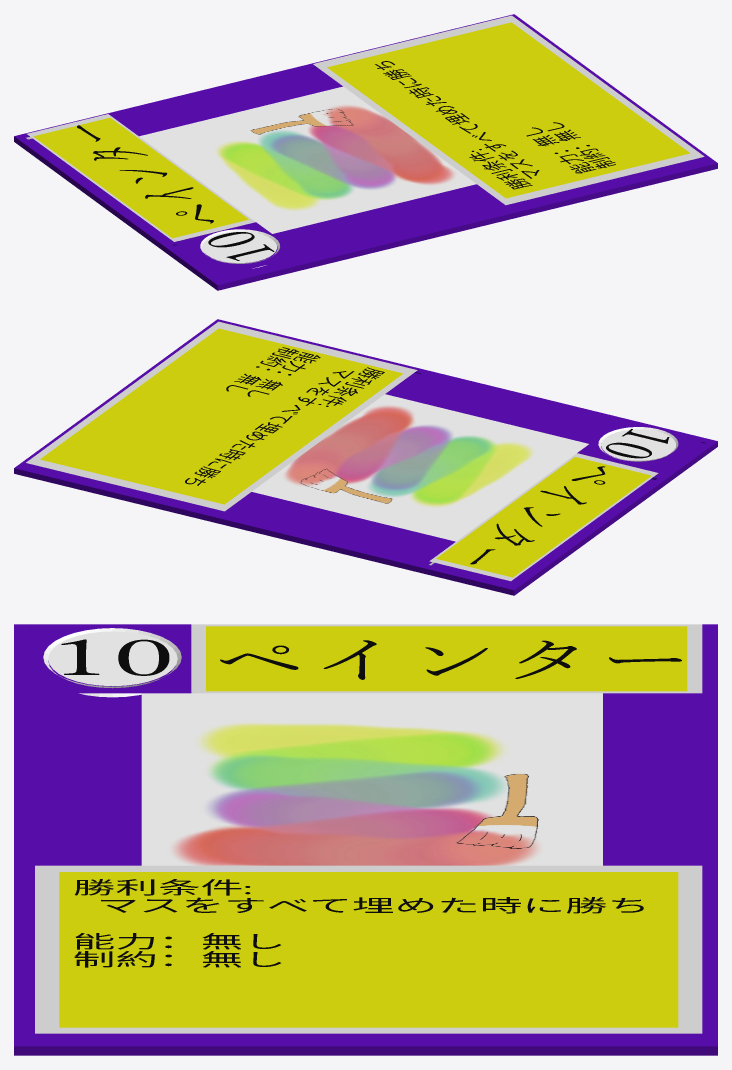
File: ペインター紫.fbx
3 renders of one model, top to bottom at view 1: azimuth 30°, elevation 25°; view 2: azimuth 150°, elevation 25°; view 3: azimuth 270°, elevation 25°, orthographic. The views are drawn at different scales.
Visible parts, largest first — view 1: 説明欄, 平面.001, カード本体.001, 名前欄, 説明文, 平面, 円, 名前, コスト; view 2: 説明欄, 平面.001, カード本体.001, 名前欄, 説明文, 平面, 円, 名前, コスト; view 3: 説明欄, 平面.001, カード本体.001, 名前欄, 説明文, 平面, 円, 名前, コスト蘭, コスト.
Boxes of the visible parts, x1,y1,x2,y2 form: 説明欄: [313, 15, 704, 205]; 平面.001: [139, 86, 476, 233]; カード本体.001: [14, 14, 717, 290]; 名前欄: [27, 114, 255, 241]; 説明文: [375, 61, 615, 189]; 平面: [174, 222, 302, 275]; 円: [202, 231, 276, 262]; 名前: [77, 125, 213, 223]; コスト: [208, 232, 274, 260]; 説明欄: [26, 321, 417, 511]; 平面.001: [252, 394, 588, 541]; カード本体.001: [14, 319, 717, 595]; 名前欄: [429, 453, 658, 581]; 説明文: [185, 347, 384, 485]; 平面: [577, 419, 704, 472]; 円: [601, 429, 675, 460]; 名前: [470, 466, 605, 564]; コスト: [606, 429, 669, 458]; 説明欄: [35, 865, 702, 1033]; 平面.001: [141, 693, 602, 865]; カード本体.001: [14, 624, 717, 1055]; 名前欄: [191, 624, 702, 693]; 説明文: [74, 879, 643, 967]; 平面: [30, 624, 191, 693]; 円: [48, 631, 177, 686]; 名前: [220, 640, 681, 679]; コスト蘭: [43, 628, 181, 697]; コスト: [61, 639, 169, 675].
Bounding box in the file's own units: 281 × 6.07 × 198.
